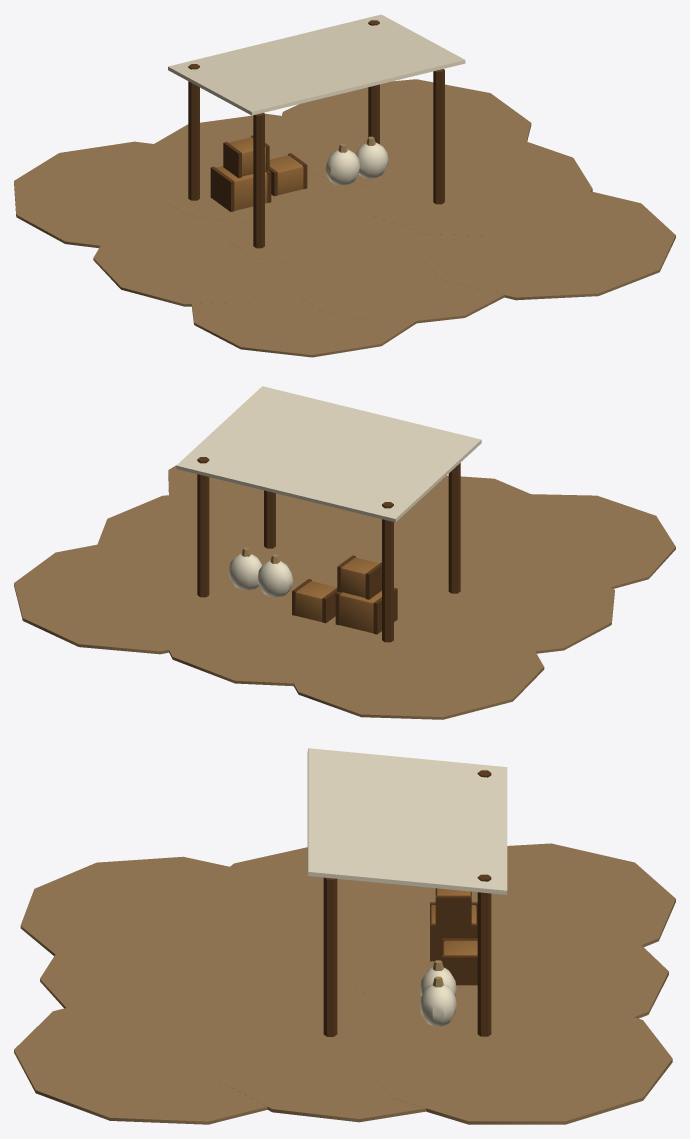
Rendered from magazyn_poz01.glb.
The picture shows the model from 3 angles, top to bottom: view 1: azimuth 30°, elevation 25°; view 2: azimuth 150°, elevation 25°; view 3: azimuth 270°, elevation 25°; orthographic projection. The views are drawn at different scales.
Parts seen in each view (by area): view 1: magazyn_poz01; view 2: magazyn_poz01; view 3: magazyn_poz01.
Boxes of the visible parts, bbox=[...] form: magazyn_poz01: bbox=[14, 14, 675, 357]; magazyn_poz01: bbox=[14, 386, 675, 719]; magazyn_poz01: bbox=[14, 748, 675, 1124].
Size of the model in its own units: 8.55 by 2.54 by 8.6.
